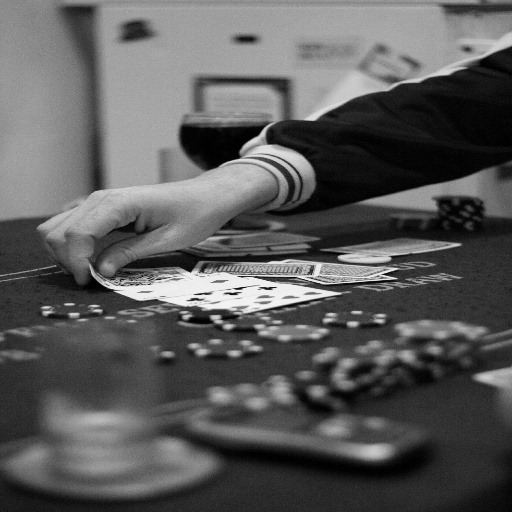hand: (53, 135, 312, 270)
